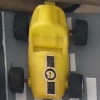amarillo_sur: (9, 2, 87, 100)
